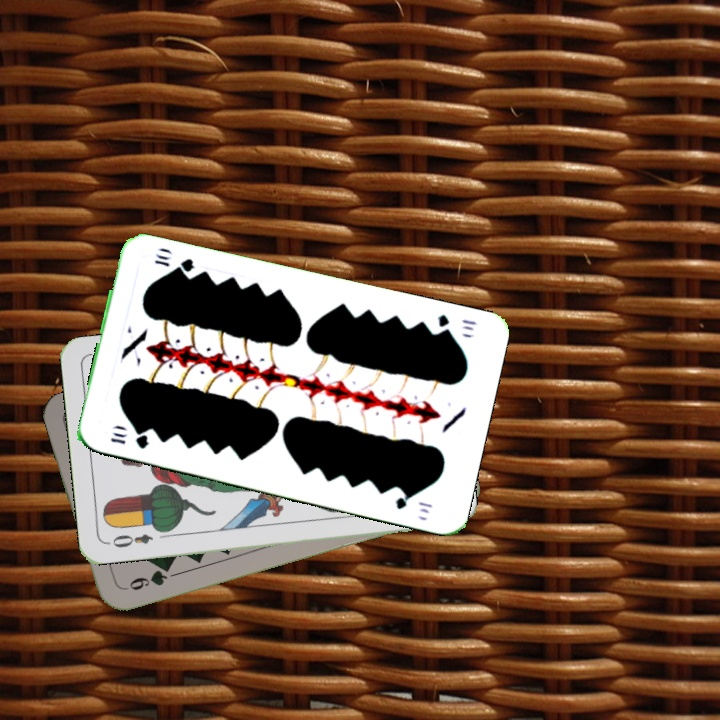EO: (108, 530, 155, 551)
G10: (433, 310, 480, 338), (106, 427, 151, 452)
G9: (119, 561, 174, 594)
